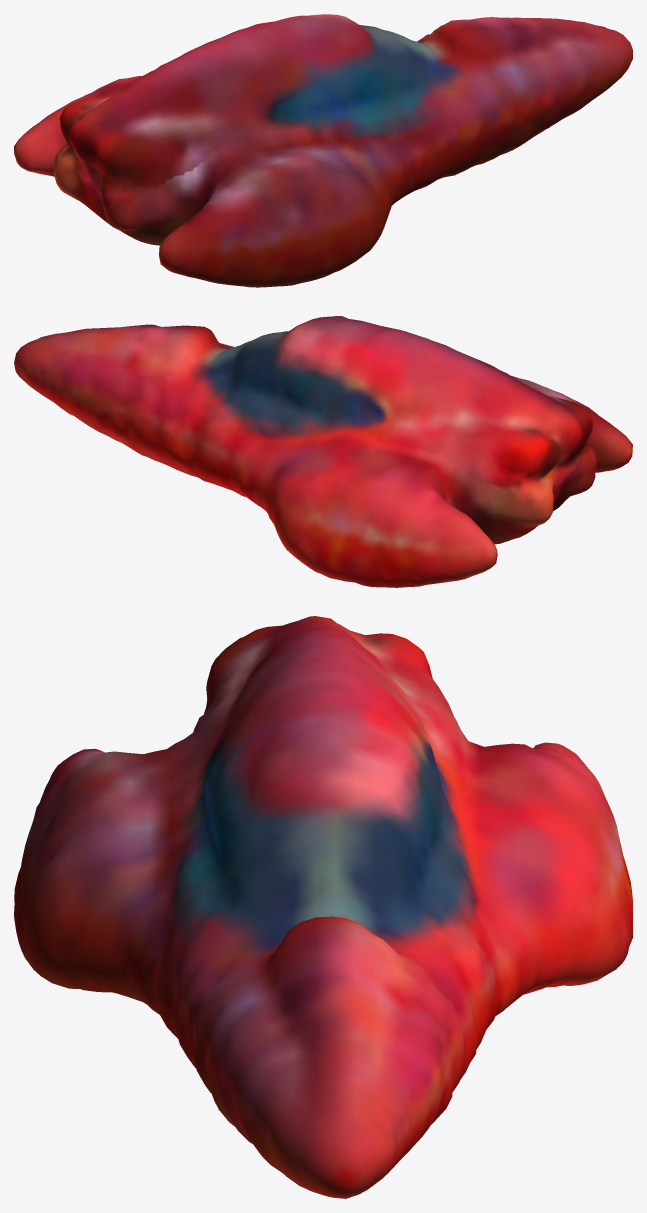
Rendered from Red_ship_1.glb.
The picture shows the model from 3 angles, top to bottom: view 1: azimuth 30°, elevation 25°; view 2: azimuth 150°, elevation 25°; view 3: azimuth 270°, elevation 25°; orthographic projection. The views are drawn at different scales.
Parts seen in each view (by area): view 1: Mesh1; view 2: Mesh1; view 3: Mesh1.
Part boxes in pixels (<box>): Mesh1: <box>14,14,632,287</box>; Mesh1: <box>14,316,632,587</box>; Mesh1: <box>14,616,632,1198</box>.
Size of the model in its own units: 1.2 by 0.3879 by 0.6863.
Materials: 1 (1 with a texture image).
